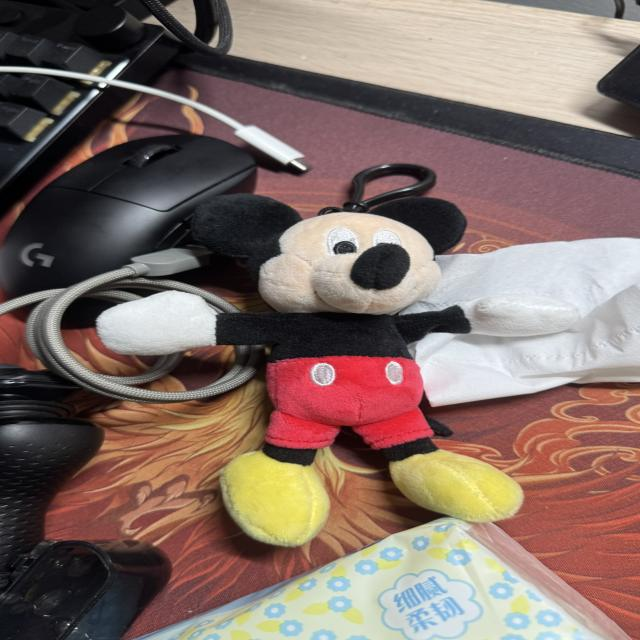mickey: (98, 195, 577, 546)
